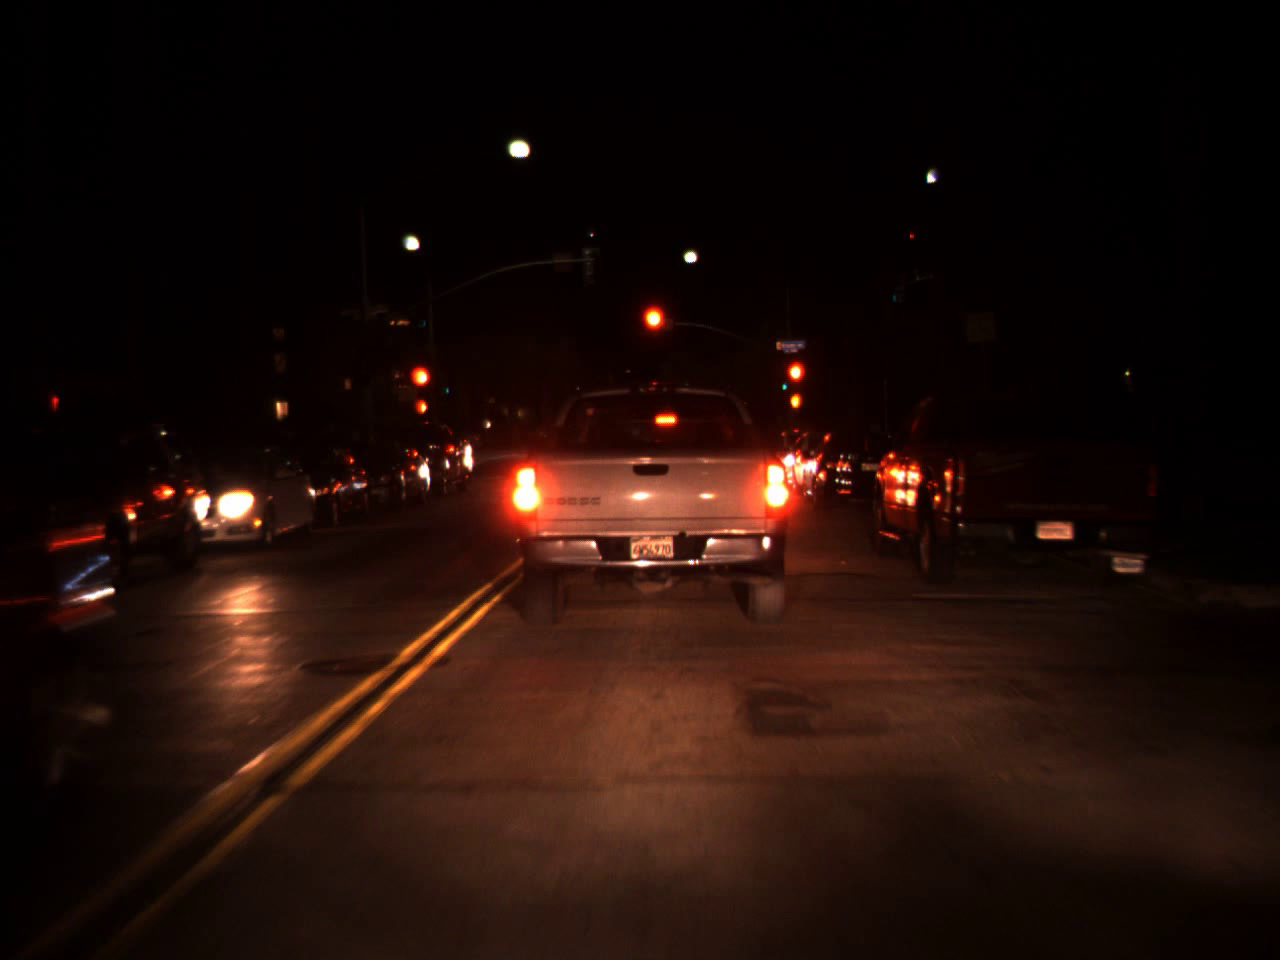stop: (639, 302, 669, 358), (407, 363, 434, 411), (784, 358, 808, 409)
